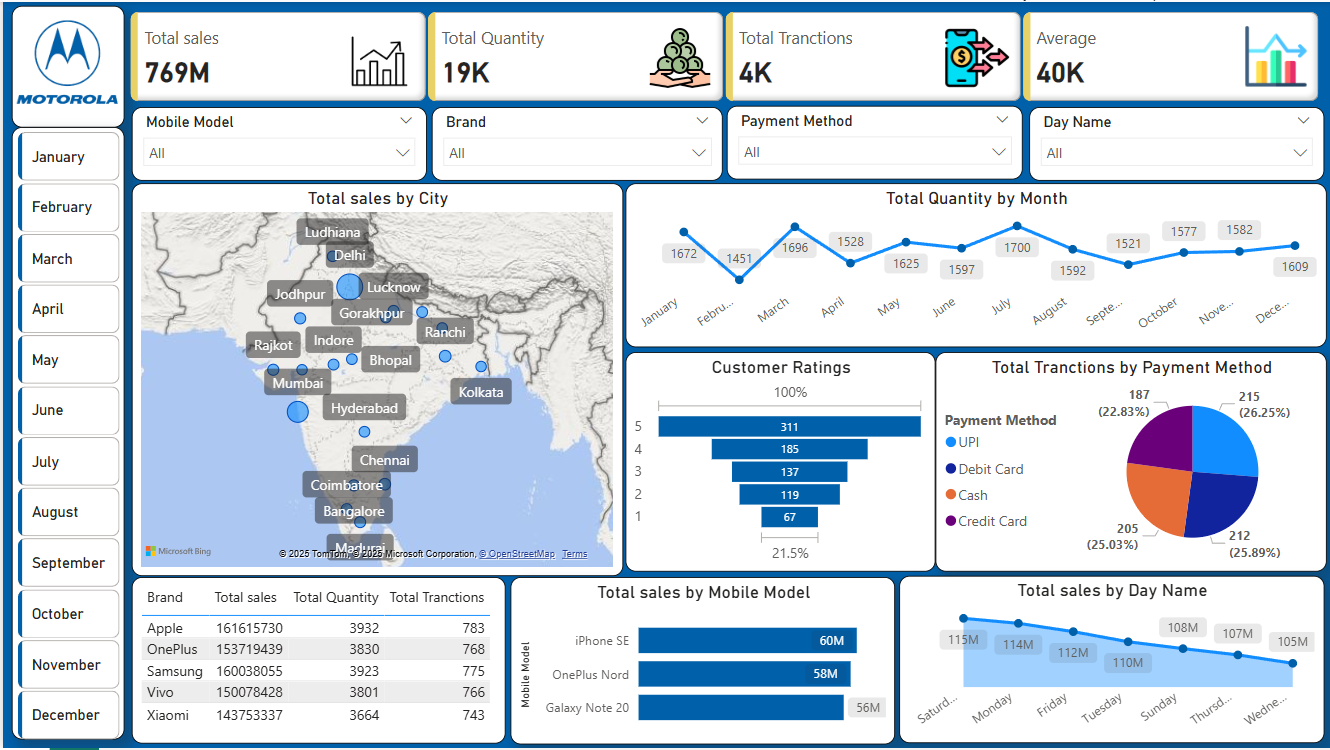

The dashboard page shown, as its layout file describes it:
{"tool":"powerbi","page":{"name":"Page 1","canvas":[1280,720],"ordinal":0},"visuals":[{"type":"shape","box":[8.6,3.7,108.9,117.5],"z":0},{"type":"image","box":[8.6,3.7,107.7,108.9],"z":1000},{"type":"shape","box":[8.6,121.2,108.9,591.2],"z":2000},{"type":"advancedSlicerVisual","fields":{"Values":["Sales_Data.Date.Variation.Date Hierarchy.Month"]},"box":[9.8,121.2,108.9,598.5],"z":3000},{"type":"cardVisual","fields":{"Data":["Sales_Data.Total sales","Sales_Data.Total Quantity","Sales_Data.Total Tranctions","Sales_Data.Average"]},"box":[118.2,4.8,1157,96.5],"z":4000},{"type":"map","fields":{"Category":["Sales_Data.City"],"Size":["Sales_Data.Total sales"]},"box":[124.3,174.9,474.1,378.8],"z":5000},{"type":"lineChart","fields":{"Category":["Sales_Data.Date.Variation.Date Hierarchy.Month","Sales_Data.Date.Variation.Date Hierarchy.Day"],"Y":["Sales_Data.Total Quantity"]},"box":[600.8,174.9,676.8,158],"z":6000},{"type":"barChart","fields":{"Category":["Sales_Data.Mobile Model"],"Y":["Sales_Data.Total sales"]},"box":[489.8,555,371.6,161.7],"z":7000},{"type":"pieChart","fields":{"Category":["Sales_Data.Payment Method"],"Y":["Sales_Data.Total Tranctions"]},"box":[900,337.8,377.6,212.3],"z":8000},{"type":"funnel","title":"Customer Ratings","fields":{"Category":["Sales_Data.Customer Ratings"],"Y":["CountNonNull(Sales_Data.Customer Ratings)"]},"box":[600.8,337.8,299.2,212.3],"z":9000},{"type":"areaChart","fields":{"Category":["Sales_Data.Day Name"],"Y":["Sales_Data.Total sales"]},"box":[865,553.8,410.2,161.7],"z":10000},{"type":"tableEx","fields":{"Values":["Sales_Data.Brand","Sales_Data.Total sales","Sales_Data.Total Quantity","Sales_Data.Total Tranctions"]},"box":[124.3,555,360.7,160.5],"z":11000},{"type":"slicer","fields":{"Values":["Sales_Data.Mobile Model"]},"box":[124.3,101.3,284.7,71.2],"z":12000},{"type":"slicer","fields":{"Values":["Sales_Data.Brand"]},"box":[413.8,101.3,281.1,71.2],"z":13000},{"type":"slicer","fields":{"Values":["Sales_Data.Payment Method"]},"box":[698.5,100.1,285.9,71.2],"z":14000},{"type":"slicer","fields":{"Values":["Sales_Data.Day Name"]},"box":[990.5,101.3,284.7,71.2],"z":15000}]}

Visuals, with their boxes in screenshot pixels (x1, y1, x2, y2), scaled from the page's 1280x720 canvas onto the 1330x750 screenshot:
shape: bbox(9, 4, 122, 126)
image: bbox(9, 4, 121, 117)
shape: bbox(9, 126, 122, 742)
advancedSlicerVisual - Sales_Data.Date.Variation.Date Hierarchy.Month: bbox(10, 126, 123, 749)
cardVisual - Sales_Data.Total sales x Sales_Data.Total Quantity: bbox(123, 5, 1325, 106)
map - Sales_Data.City x Sales_Data.Total sales: bbox(129, 182, 622, 577)
lineChart - Sales_Data.Date.Variation.Date Hierarchy.Month x Sales_Data.Date.Variation.Date Hierarchy.Day: bbox(624, 182, 1328, 347)
barChart - Sales_Data.Mobile Model x Sales_Data.Total sales: bbox(509, 578, 895, 747)
pieChart - Sales_Data.Payment Method x Sales_Data.Total Tranctions: bbox(935, 352, 1328, 573)
"Customer Ratings" funnel: bbox(624, 352, 935, 573)
areaChart - Sales_Data.Day Name x Sales_Data.Total sales: bbox(899, 577, 1325, 745)
tableEx - Sales_Data.Brand x Sales_Data.Total sales: bbox(129, 578, 504, 745)
slicer - Sales_Data.Mobile Model: bbox(129, 106, 425, 180)
slicer - Sales_Data.Brand: bbox(430, 106, 722, 180)
slicer - Sales_Data.Payment Method: bbox(726, 104, 1023, 178)
slicer - Sales_Data.Day Name: bbox(1029, 106, 1325, 180)
